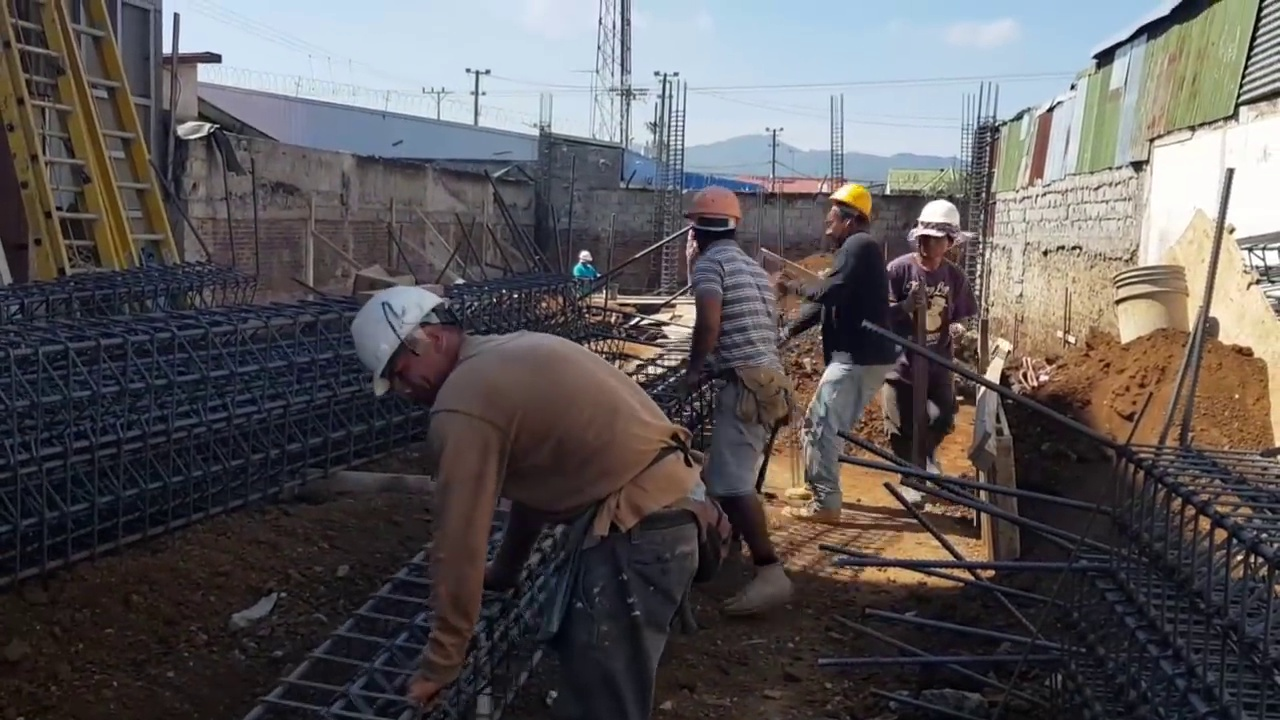helmet: (359, 282, 444, 399), (683, 184, 746, 229), (828, 182, 878, 222), (918, 201, 965, 232), (579, 250, 594, 261)
helmet-on: (359, 282, 486, 407), (684, 184, 746, 253), (911, 198, 963, 276), (826, 183, 876, 238), (577, 250, 594, 266)
person: (357, 280, 710, 713), (682, 183, 790, 604), (805, 182, 905, 524), (888, 197, 988, 487), (572, 249, 600, 294)
